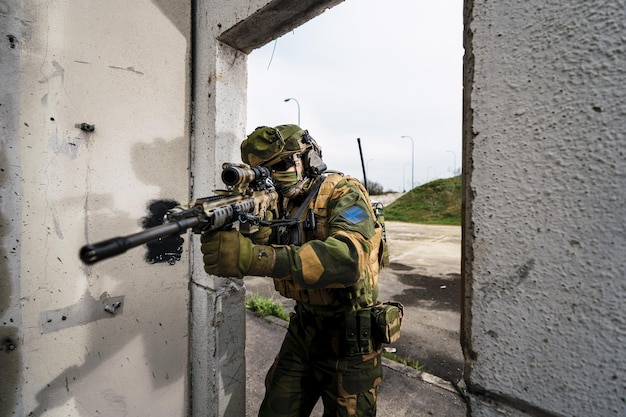gun: (77, 162, 282, 265)
